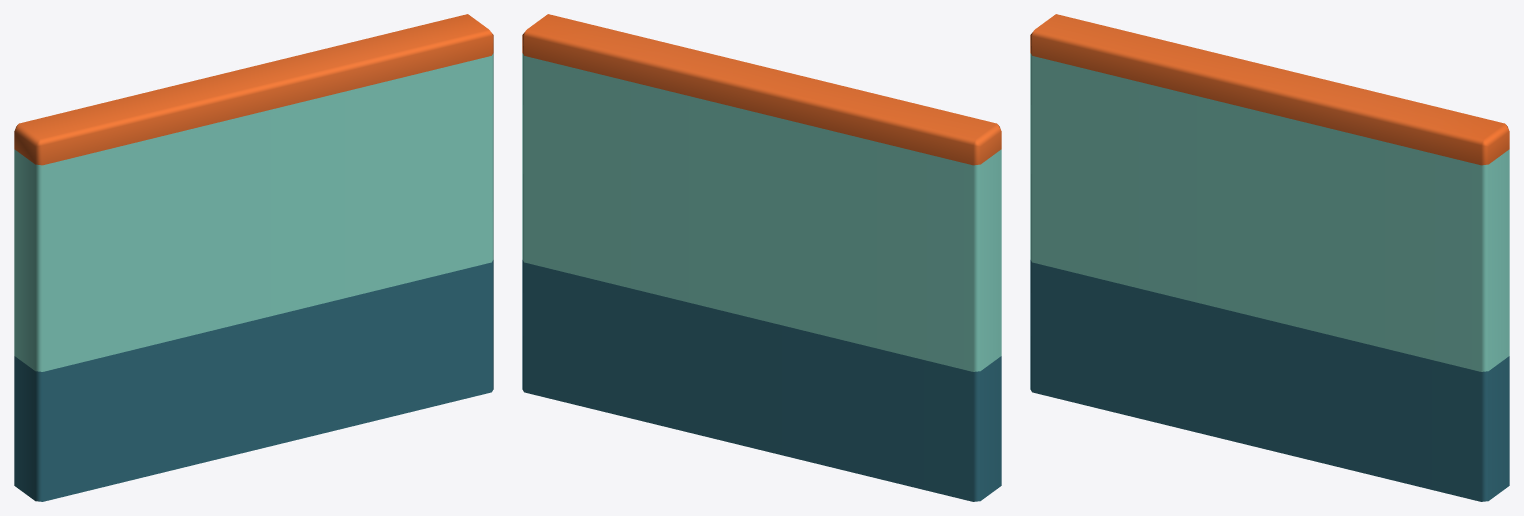
Rendered from Decor_wall_B.fbx.
The picture shows the model from 3 angles, left to right: view 1: azimuth 30°, elevation 25°; view 2: azimuth 150°, elevation 25°; view 3: azimuth 330°, elevation 25°; orthographic projection.
Visible parts, largest first — view 1: Decor_wall_B; view 2: Decor_wall_B; view 3: Decor_wall_B.
Part boxes in pixels (left/top/right/bottom): Decor_wall_B: left=14, top=14, right=493, bottom=501; Decor_wall_B: left=522, top=14, right=1001, bottom=501; Decor_wall_B: left=1030, top=14, right=1509, bottom=501.
Bounding box in the file's own units: 527 × 397 × 52.55.
